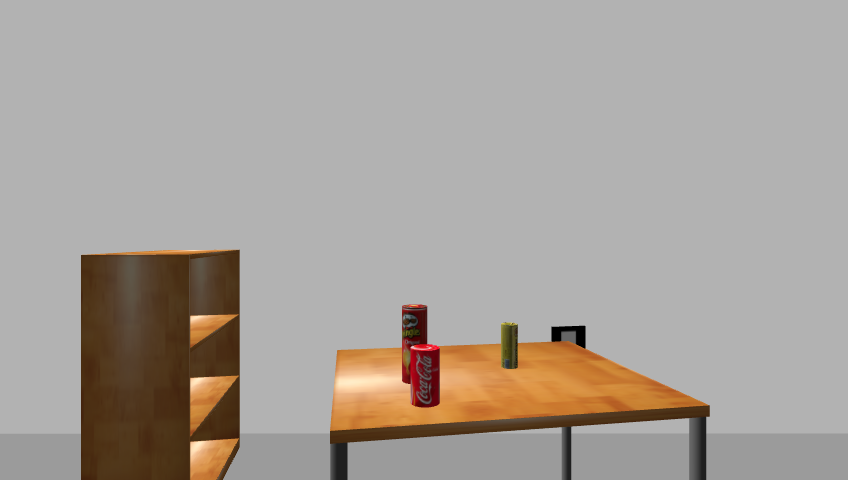aruco marker: (547, 324, 590, 355)
biscuits pack: (500, 322, 520, 371)
bookshelf: (77, 247, 247, 479)
coke can: (411, 344, 442, 408)
dinner table: (322, 341, 718, 480)
pringles can: (399, 304, 428, 385)
